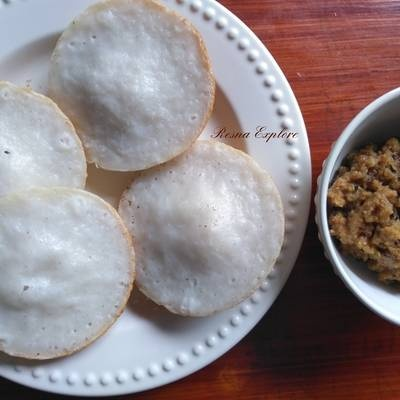srabi: (29, 11, 228, 184), (120, 137, 281, 315), (2, 182, 146, 369)
